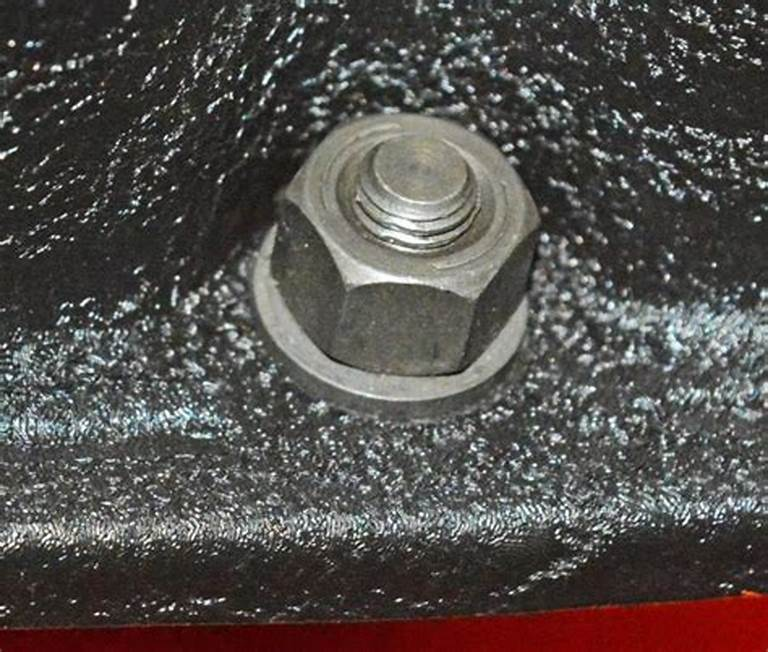bolt_b: (265, 103, 544, 379)
